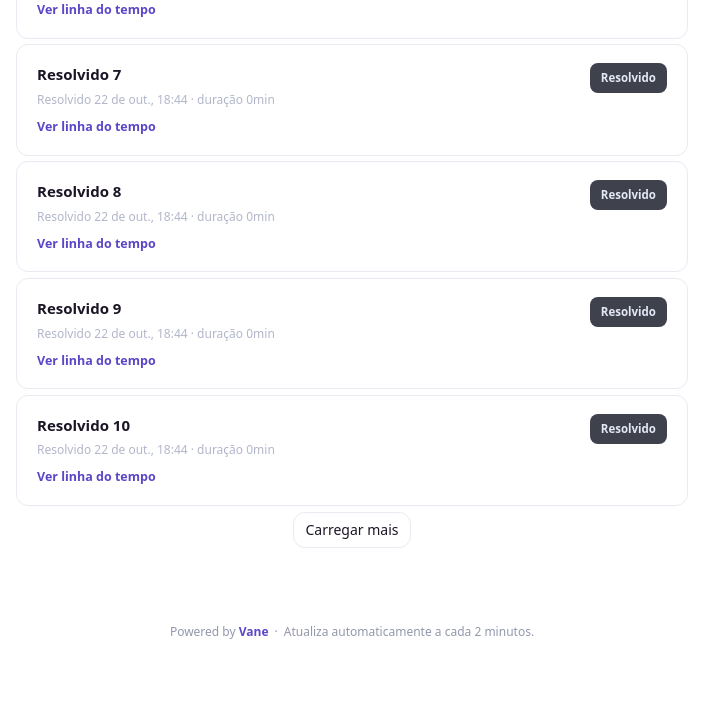
PublicStatusPage › the Load more button disappears once all resolved incidents have been loaded
(page scrolled)
Click the button "Carregar mais" at (352, 530), box [293,512,411,548]
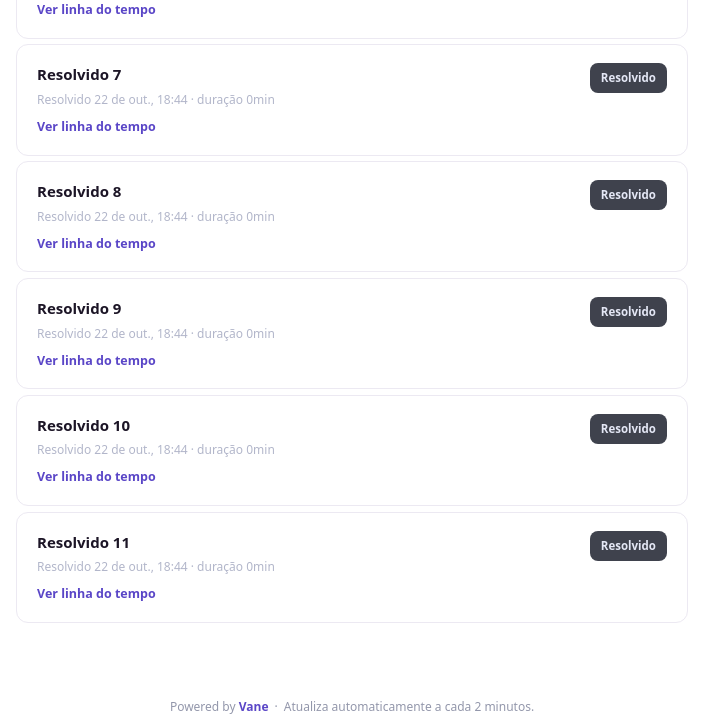
Result: the text "Resolvido 11" is shown at [37,532,130,552]
Result: the button "Carregar mais" is gone
